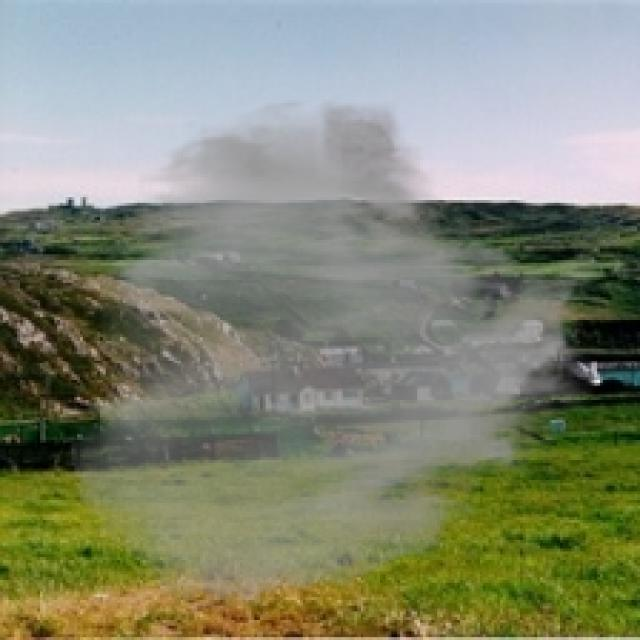Smoke: (65, 95, 606, 614)
